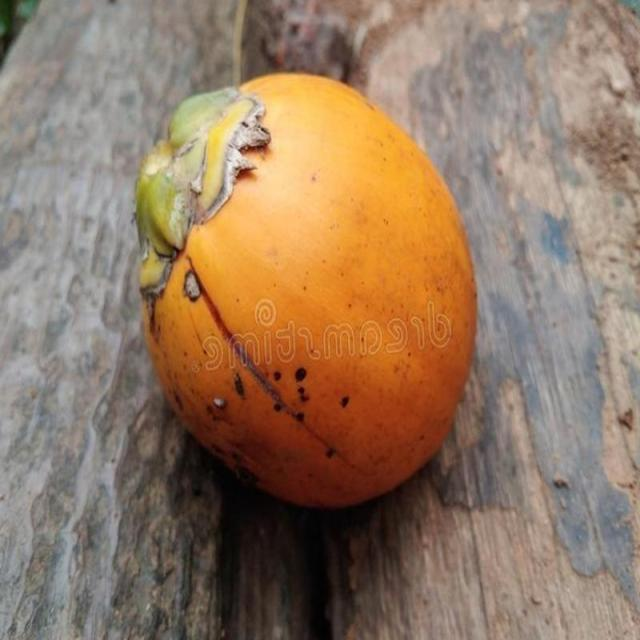good: (134, 73, 479, 513)
